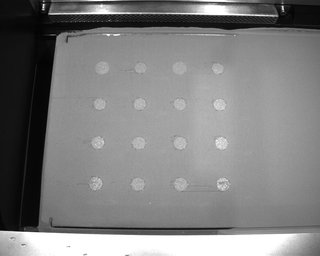defects: (170, 176, 230, 194), (76, 175, 105, 192), (78, 135, 109, 150), (124, 61, 149, 75), (87, 96, 109, 111), (212, 135, 230, 152), (206, 61, 225, 75)
